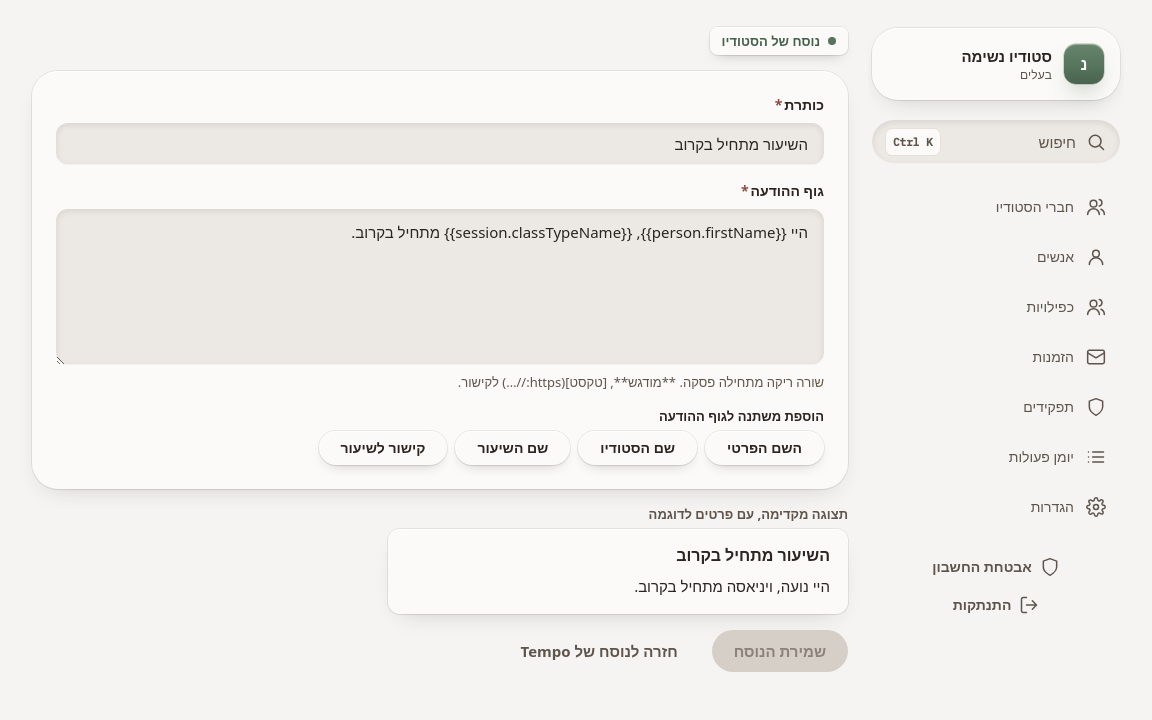
it: notification templates › sends a channel back to the default and keeps the other as it is
(page scrolled)
expect the text "נוסח של הסטודיו" is shown: met, box [710,27,848,55]
Click the button "חזרה לנוסח של Tempo" at (599, 651), box [499,630,700,672]
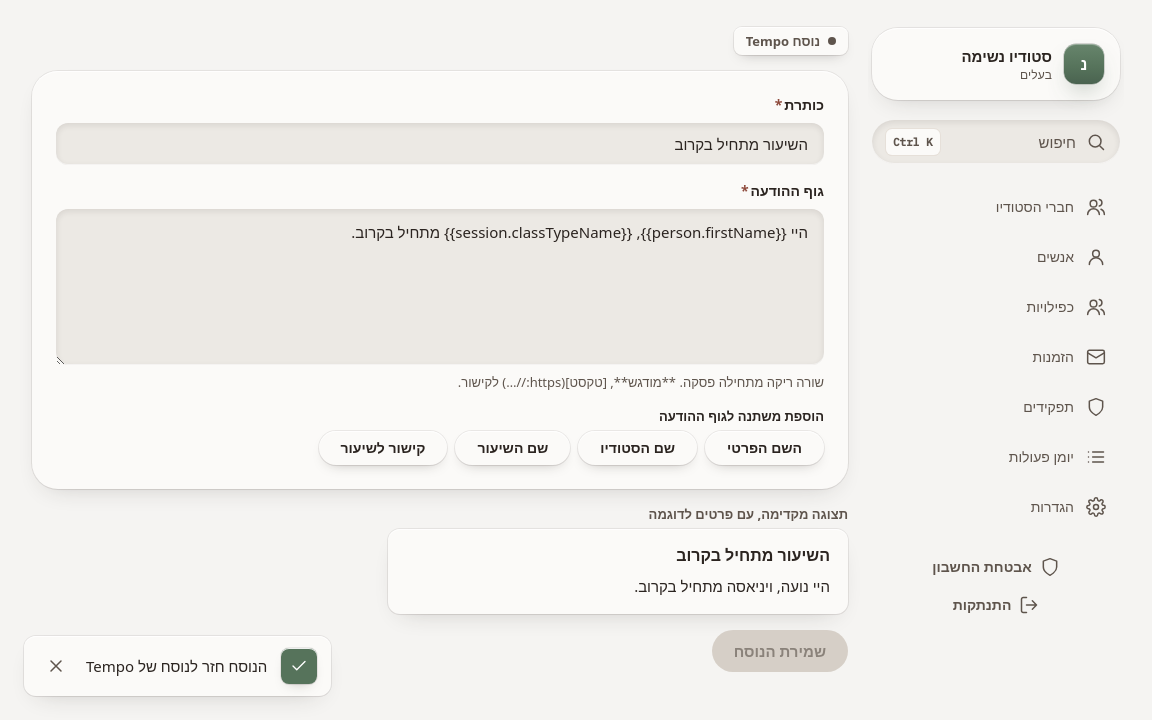
expect the text "הנוסח חזר לנוסח של Tempo" is shown: met, box [86,655,267,677]
